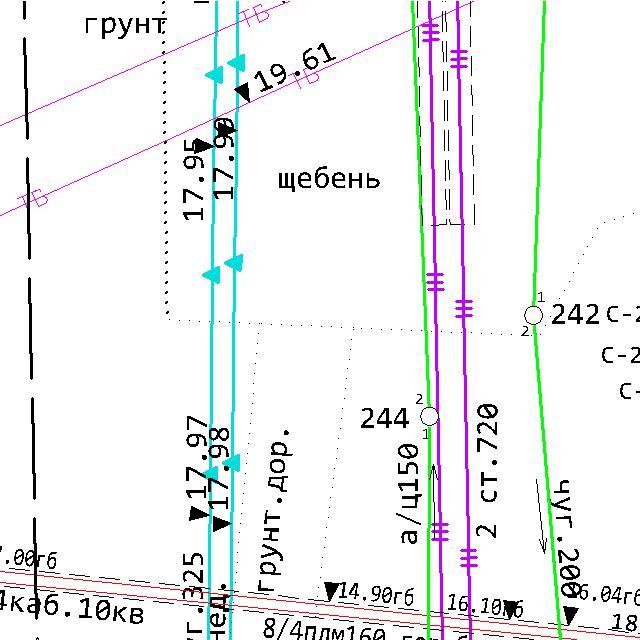mark: (234, 80, 253, 106), (216, 120, 240, 140), (322, 580, 341, 604), (194, 136, 216, 156), (211, 515, 234, 534), (186, 505, 210, 523), (502, 598, 520, 621), (562, 604, 580, 627)
well: (418, 404, 442, 429), (522, 304, 546, 328)
